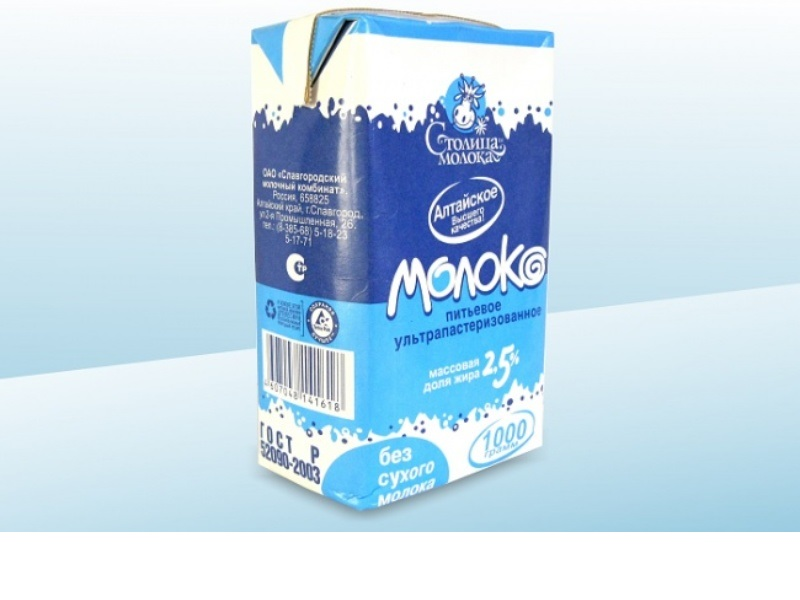milk: (235, 2, 594, 524)
